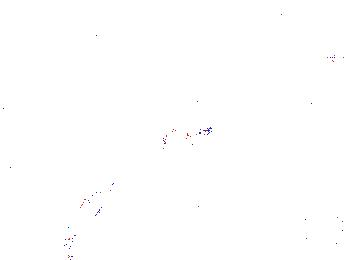X-ray fish: (211, 170, 238, 213)
glassfish: (66, 160, 128, 253), (202, 134, 269, 196)
red belly glassfish: (327, 51, 346, 72)
redtail glassfish: (158, 124, 212, 149)
